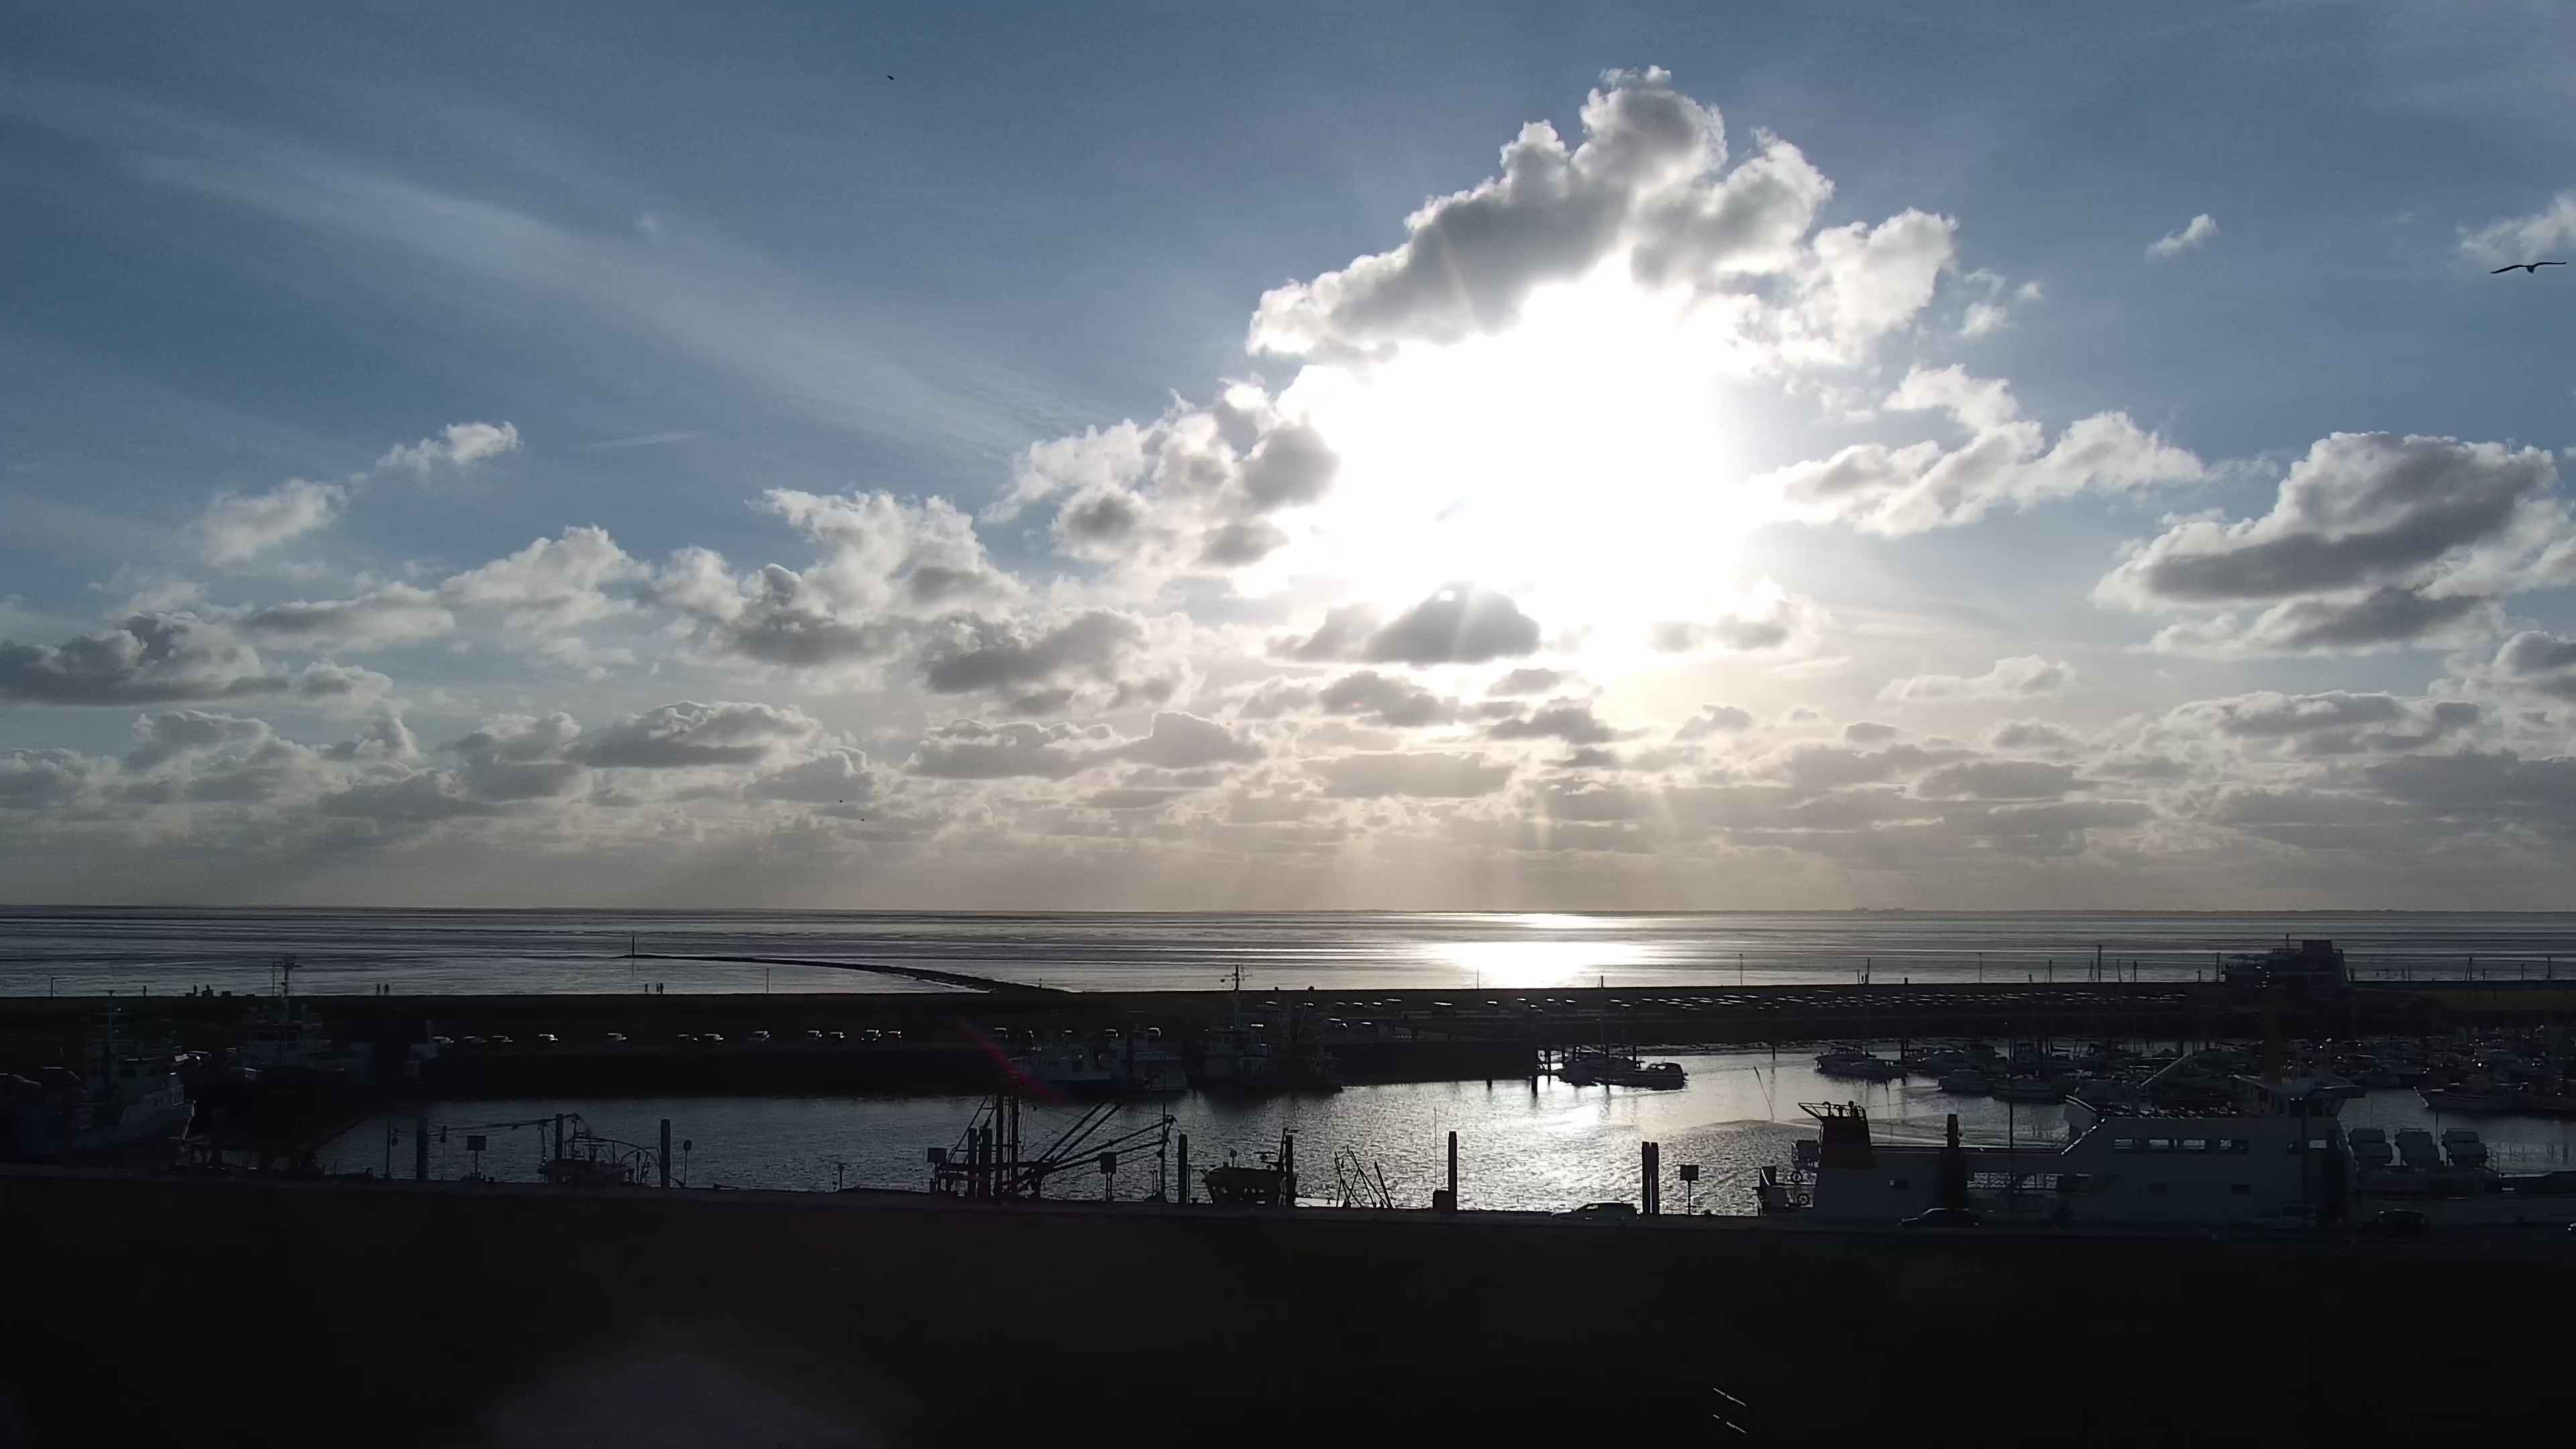human: (376, 983, 381, 996), (384, 982, 390, 996), (655, 981, 660, 995), (659, 981, 664, 996), (645, 981, 649, 993), (193, 983, 197, 996), (143, 985, 148, 997)
land: (2353, 1206, 2426, 1233), (1551, 1201, 1637, 1222), (2256, 1203, 2317, 1229), (1898, 1206, 1976, 1226), (40, 1065, 80, 1087), (1, 1071, 42, 1093), (747, 1030, 771, 1046), (605, 1032, 627, 1048), (1325, 1016, 1346, 1032), (432, 1036, 455, 1049), (676, 1033, 698, 1046), (702, 1032, 724, 1046), (860, 1029, 883, 1044), (462, 1034, 487, 1048), (1432, 1000, 1453, 1014), (490, 1035, 514, 1048), (885, 1030, 902, 1045), (538, 1033, 558, 1047), (804, 1030, 823, 1044), (826, 1030, 846, 1044), (1351, 1022, 1373, 1033), (1665, 1001, 1686, 1013), (1385, 997, 1403, 1010), (1255, 1000, 1278, 1010), (1295, 1002, 1315, 1013), (1525, 1004, 1544, 1016), (992, 1026, 1009, 1041), (1680, 1003, 1701, 1014), (1479, 1000, 1497, 1012), (1545, 998, 1562, 1010), (1729, 1000, 1749, 1011), (1564, 998, 1579, 1010), (1145, 1026, 1162, 1037), (1329, 1002, 1347, 1012), (1688, 996, 1706, 1007), (2565, 1215, 2576, 1234), (1104, 1028, 1118, 1040), (1513, 996, 1527, 1008), (1701, 996, 1716, 1008), (2092, 996, 2110, 1007), (1762, 1001, 1780, 1011), (1742, 994, 1760, 1003), (1933, 992, 1947, 1004), (1836, 1000, 1851, 1010), (1352, 1002, 1368, 1011), (1670, 997, 1686, 1004), (1718, 1001, 1733, 1011), (2004, 992, 2020, 1001), (1609, 998, 1623, 1008), (1990, 993, 2002, 1003), (2081, 996, 2093, 1007), (1621, 1003, 1634, 1012), (1640, 998, 1654, 1007), (1809, 1002, 1822, 1010), (1823, 1001, 1836, 1010), (1723, 994, 1740, 1002), (1947, 994, 1960, 1003), (2065, 998, 2080, 1007), (1371, 1001, 1383, 1010), (1656, 998, 1668, 1006), (2075, 991, 2094, 997), (1961, 994, 1975, 1001), (1976, 994, 1990, 1002), (1786, 996, 1803, 1002), (1871, 1002, 1882, 1009), (1847, 996, 1859, 1004), (1863, 994, 1876, 1002), (1890, 996, 1902, 1004), (1803, 996, 1816, 1002)
sea: (1933, 1001, 2575, 1219), (839, 1069, 1303, 1212), (1751, 1002, 1931, 1219), (1, 987, 196, 1165), (211, 951, 374, 1146), (1933, 1001, 2146, 1072), (1197, 959, 1278, 1090), (1267, 985, 1342, 1091), (1005, 1030, 1112, 1093), (1096, 1034, 1186, 1090), (2413, 1077, 2504, 1114), (1815, 1041, 1892, 1081), (1991, 1067, 2061, 1102), (1935, 1065, 1992, 1095), (1623, 1060, 1688, 1085)
